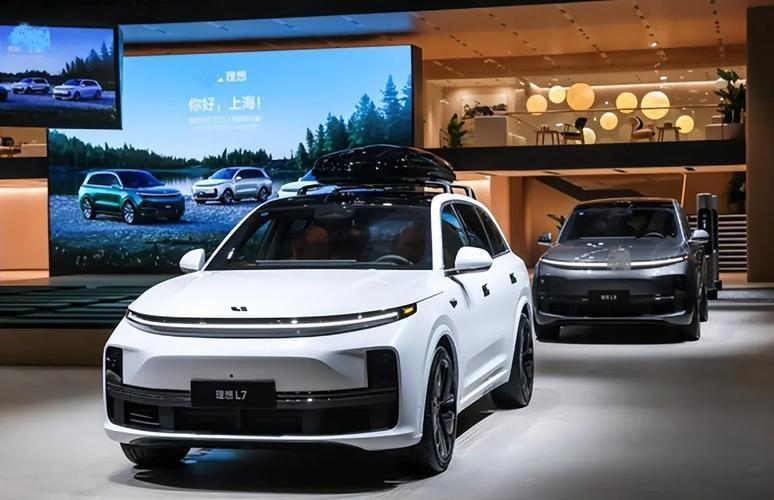Li Auto: (230, 305, 247, 312)
